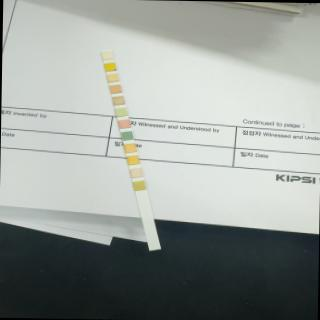mark: (132, 180, 144, 190), (118, 120, 130, 128), (121, 132, 133, 140), (130, 168, 142, 176), (113, 96, 123, 105), (104, 62, 115, 70), (116, 108, 127, 116), (102, 52, 114, 59), (124, 144, 134, 152), (109, 85, 120, 92), (127, 156, 138, 163), (108, 74, 118, 81)
